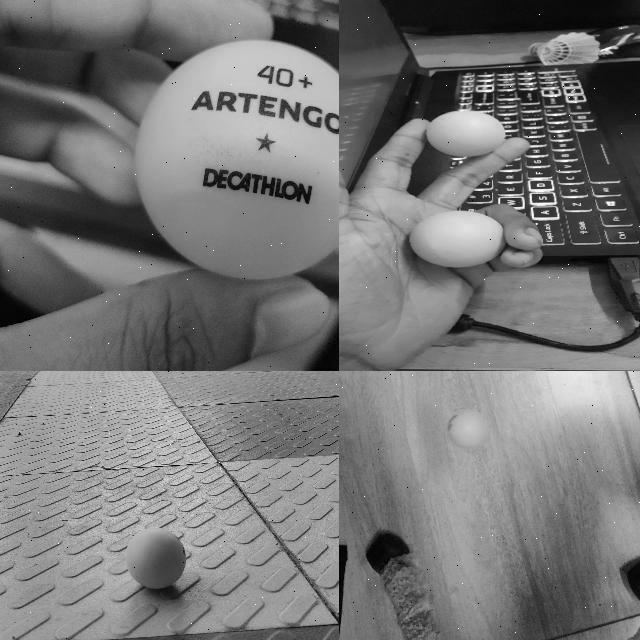ping-pong-ball: (136, 39, 338, 277), (411, 210, 502, 266), (426, 110, 506, 155), (125, 528, 185, 588), (446, 411, 484, 449)
